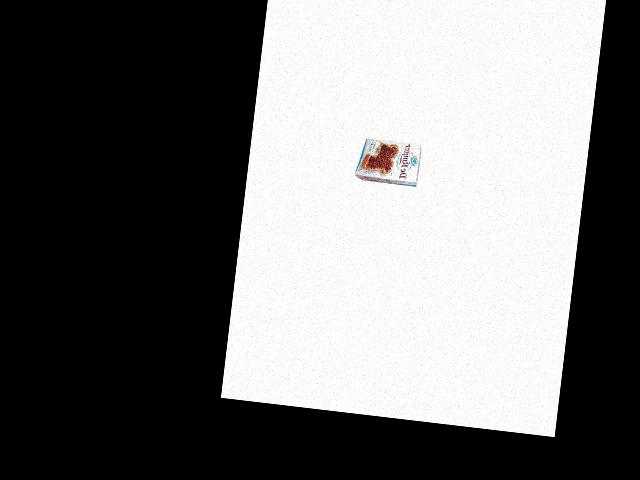chocolate: (355, 131, 426, 193)
